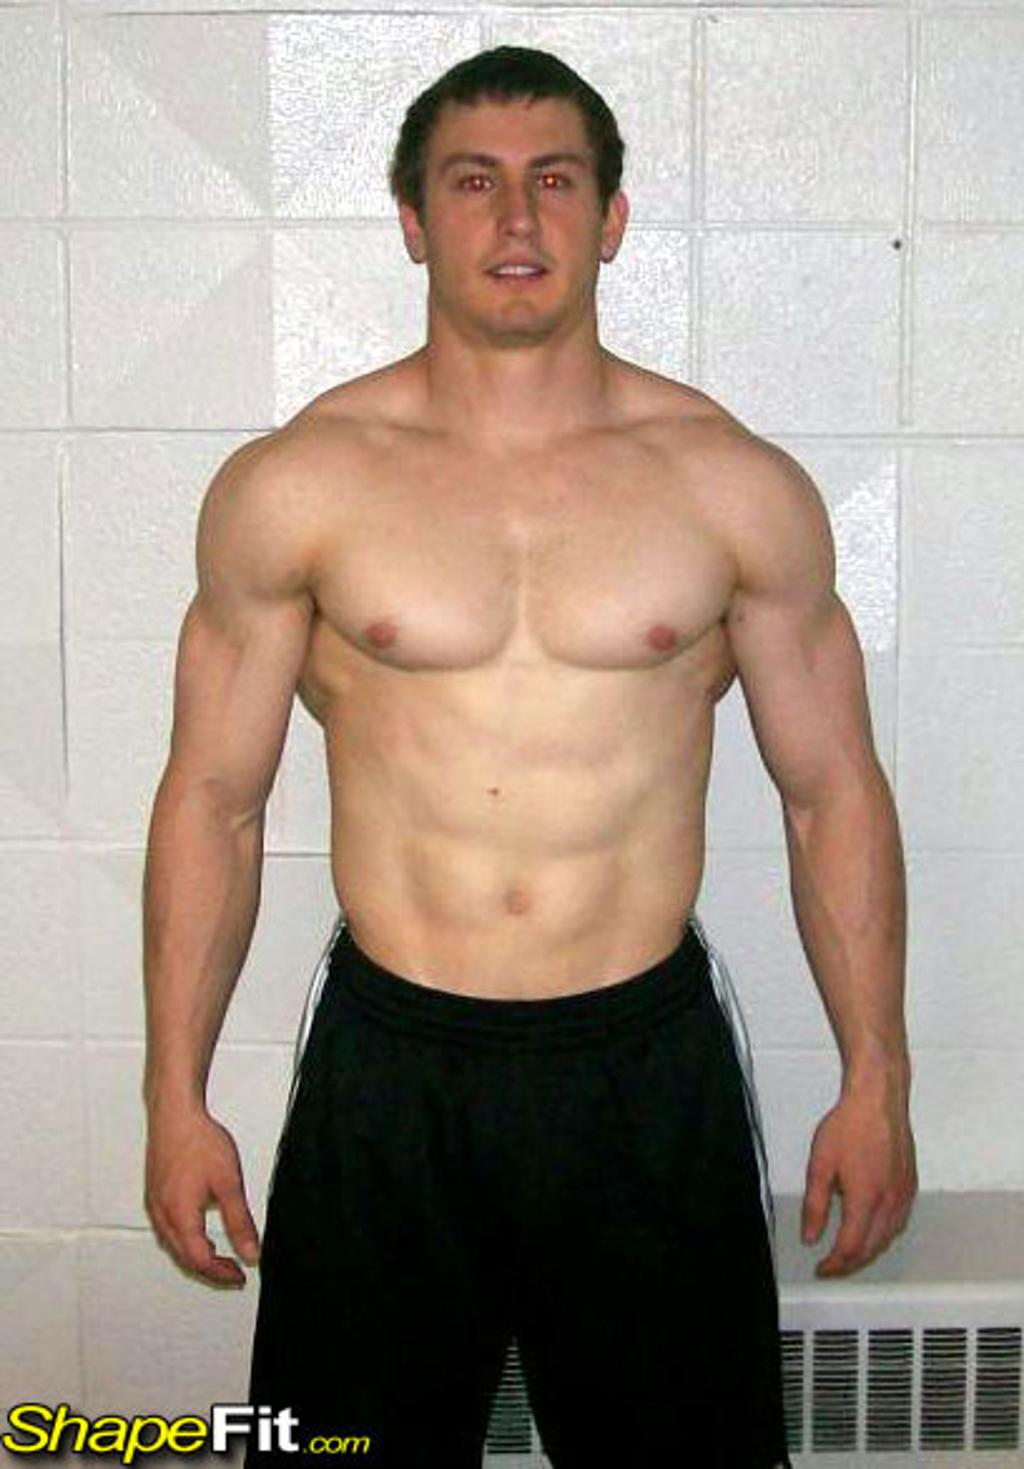face: (436, 92, 588, 321)
